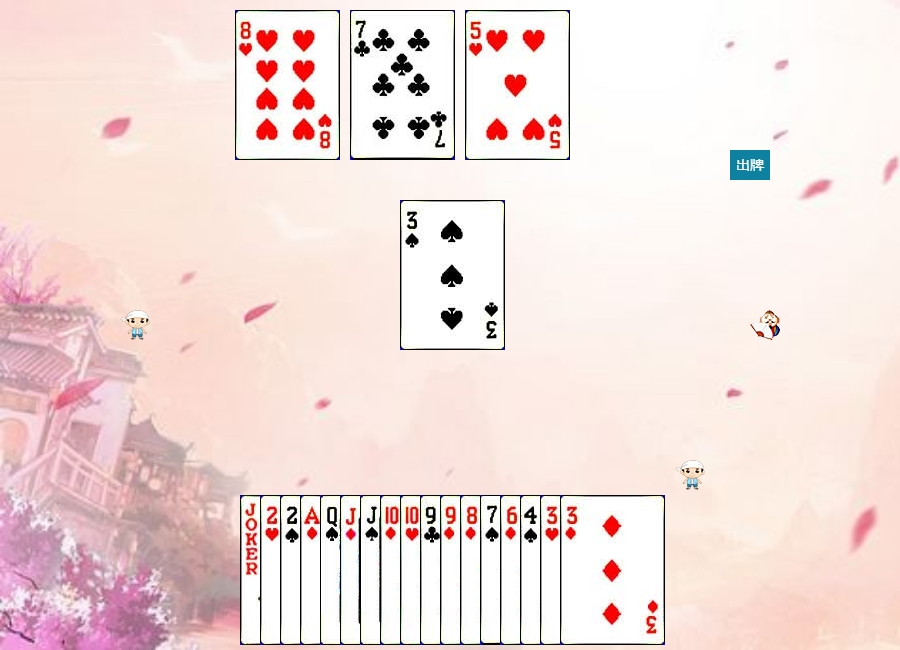10~1: (380, 495, 485, 645)
10~3: (400, 495, 505, 645)
11~1: (340, 495, 445, 645)
11~4: (360, 495, 465, 645)
12~4: (320, 495, 425, 645)
14~1: (300, 495, 405, 645)
15~3: (260, 495, 365, 645)
15~4: (280, 495, 385, 645)
18~4: (240, 495, 345, 645)
3~1: (560, 495, 665, 645)
3~3: (540, 495, 645, 645)
3~4: (400, 200, 505, 350)
4~4: (520, 495, 625, 645)
5~3: (465, 10, 570, 160)
6~1: (500, 495, 605, 645)
7~2: (350, 10, 455, 160)
7~4: (480, 495, 585, 645)
8~1: (460, 495, 565, 645)
8~3: (235, 10, 340, 160)
9~1: (440, 495, 545, 645)
9~2: (420, 495, 525, 645)
